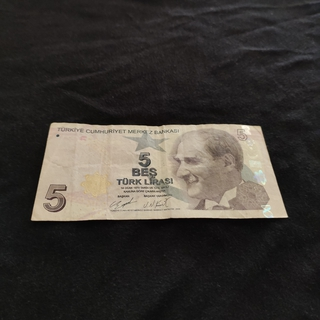5TLFront: (30, 121, 288, 221)
